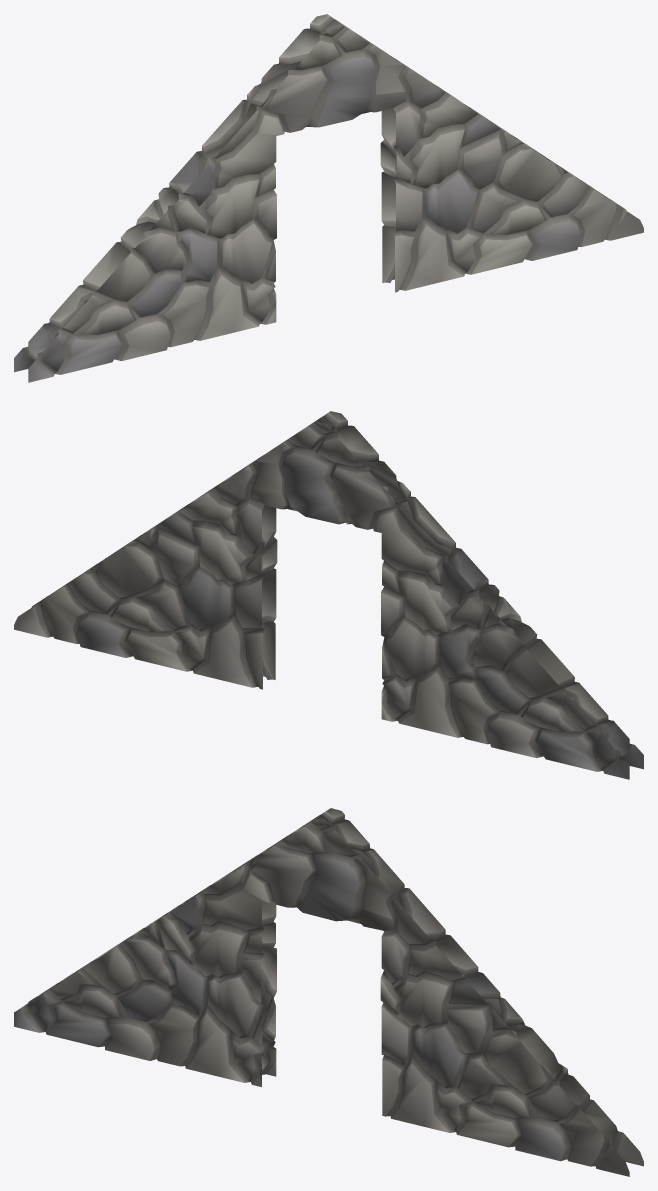
File: rpgpp_ag_roof_end_01_9x4_wall_door_03a.fbx
3 views of the same model, one above another, from view 1: azimuth 30°, elevation 25°; view 2: azimuth 150°, elevation 25°; view 3: azimuth 330°, elevation 25° (orthographic).
Visible parts, largest first — view 1: rpgpp_ag_roof_end_01_9x4_wall_door_03a; view 2: rpgpp_ag_roof_end_01_9x4_wall_door_03a; view 3: rpgpp_ag_roof_end_01_9x4_wall_door_03a.
Part boxes in pixels (x1=…): rpgpp_ag_roof_end_01_9x4_wall_door_03a: x1=14, y1=14, x2=643, y2=382; rpgpp_ag_roof_end_01_9x4_wall_door_03a: x1=14, y1=411, x2=643, y2=779; rpgpp_ag_roof_end_01_9x4_wall_door_03a: x1=14, y1=808, x2=643, y2=1176.
Size of the model in its own units: 9 by 3.94 by 0.4229.
